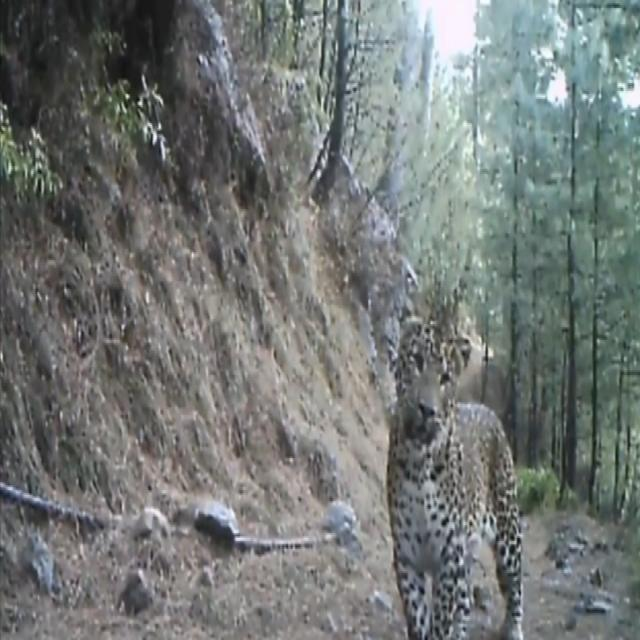Leopard: (385, 314, 520, 640)
